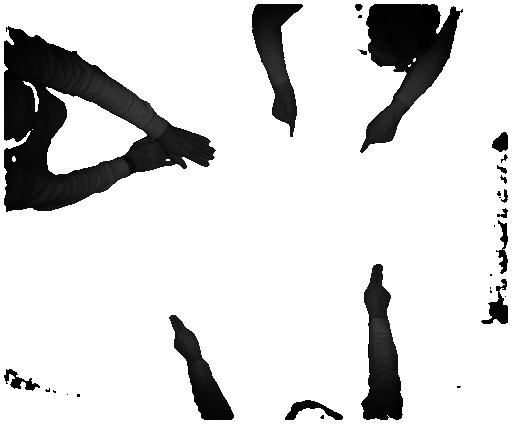hand: (163, 126, 215, 175), (360, 110, 401, 159), (168, 312, 201, 363), (360, 264, 391, 318), (273, 95, 303, 143)
